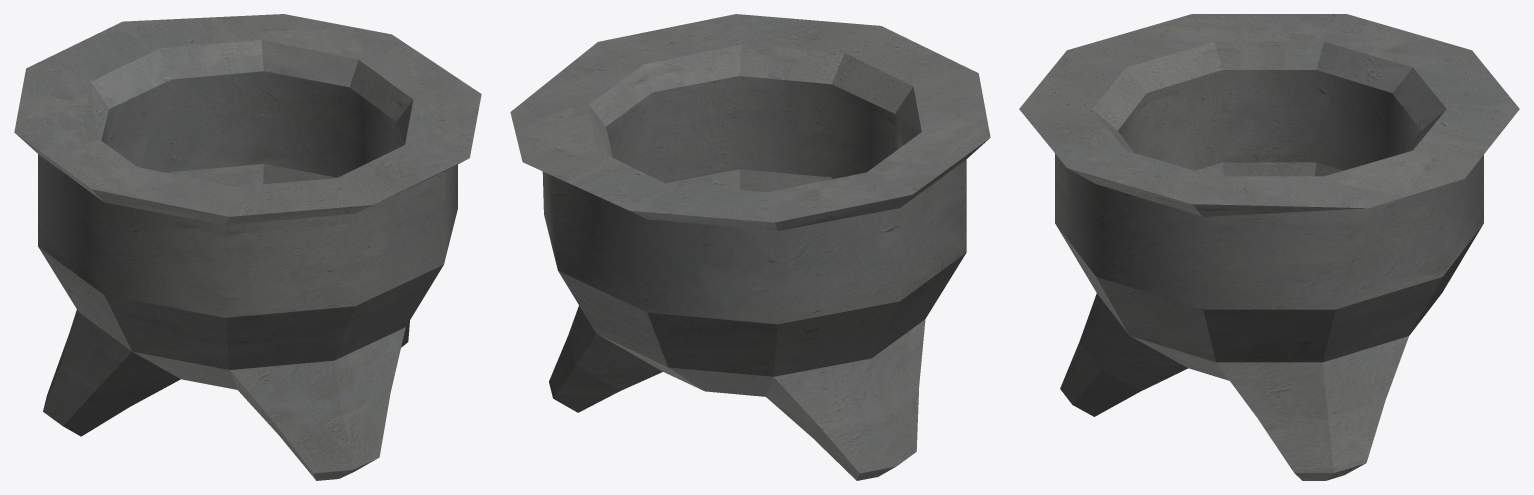
Rendered from Caldron.FBX.
3 views of the same model, side by side, from view 1: azimuth 30°, elevation 25°; view 2: azimuth 150°, elevation 25°; view 3: azimuth 270°, elevation 25° (orthographic).
Parts seen in each view (by area): view 1: Caldron; view 2: Caldron; view 3: Caldron.
Boxes of the visible parts, x1,y1,x2,y2 form: Caldron: (14, 14, 481, 480); Caldron: (510, 14, 990, 480); Caldron: (1019, 14, 1519, 480).
Bounding box in the file's own units: 16.18 × 18.01 × 11.85.
Materials: 1 (1 with a texture image).
